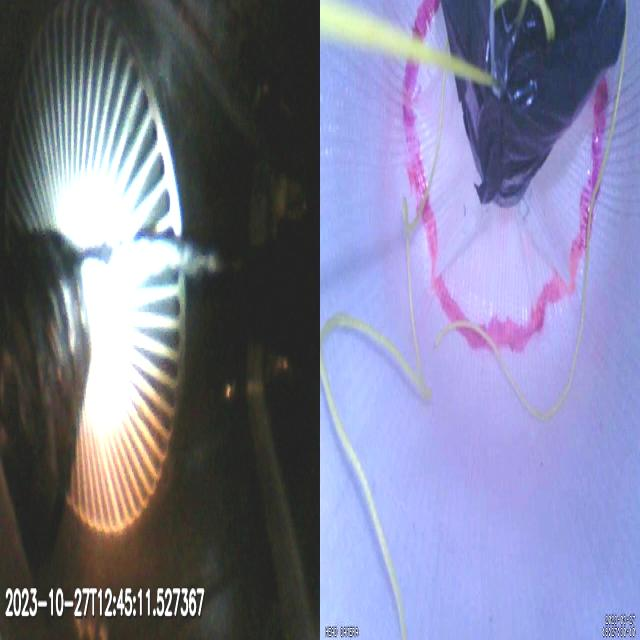red-circle: (400, 0, 609, 349)
